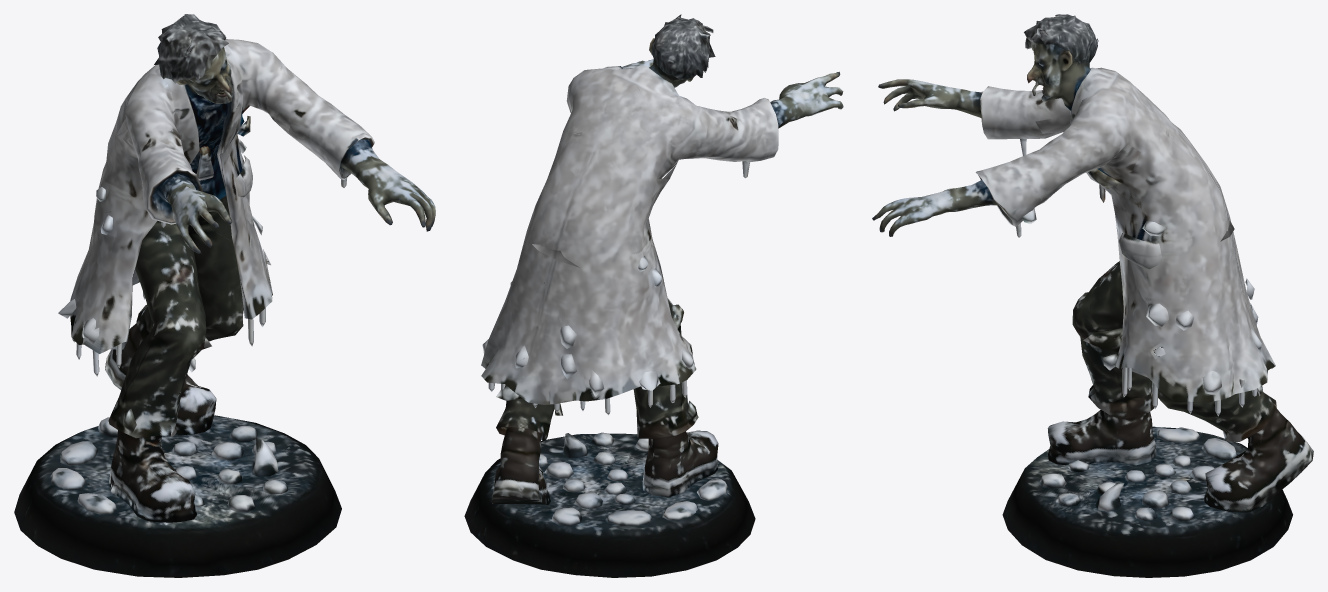
File: zombie.glb
The picture shows the model from 3 angles, left to right: view 1: azimuth 30°, elevation 25°; view 2: azimuth 150°, elevation 25°; view 3: azimuth 270°, elevation 25°; orthographic projection. The views are drawn at different scales.
Parts seen in each view (by area): view 1: geometry_0; view 2: geometry_0; view 3: geometry_0.
Boxes of the visible parts, box(x1,y1,x2,y2) form: geometry_0: box(14, 14, 435, 577); geometry_0: box(464, 14, 843, 577); geometry_0: box(872, 14, 1313, 577).
Bounding box in the file's own units: 0.5556 × 1 × 0.8265.
Materials: 1 (1 with a texture image).
